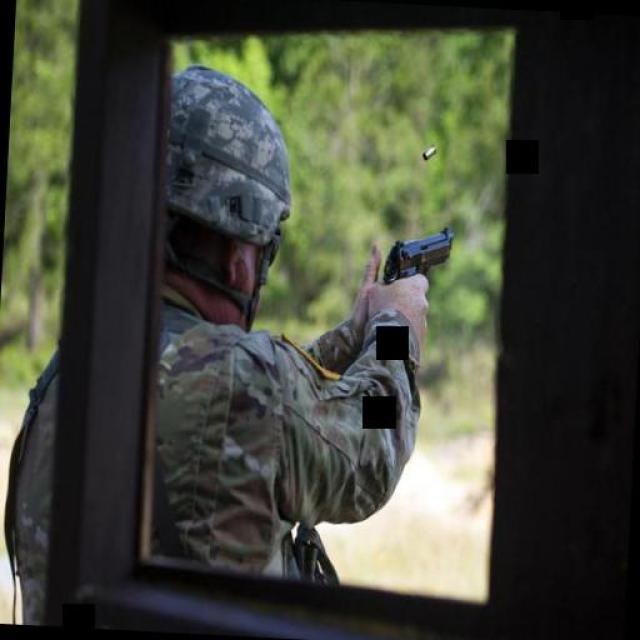gun: (380, 219, 456, 289)
